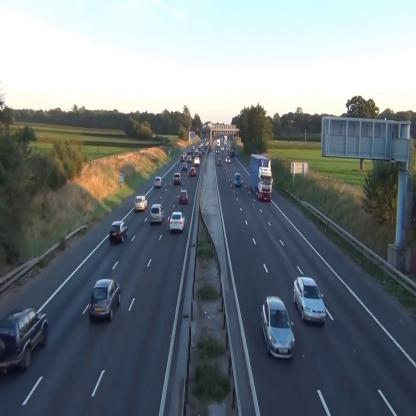car: (0, 308, 48, 372), (261, 296, 296, 360), (294, 276, 326, 327), (89, 279, 121, 320), (109, 221, 128, 242), (169, 211, 185, 232), (150, 203, 164, 223), (134, 195, 147, 211), (179, 190, 188, 204), (173, 173, 182, 185), (154, 174, 161, 188), (234, 173, 242, 185), (190, 166, 197, 176), (194, 156, 199, 165), (226, 155, 231, 163), (182, 163, 187, 170), (180, 154, 184, 162), (187, 154, 191, 161), (218, 158, 222, 165)
lorry: (251, 154, 273, 202)
